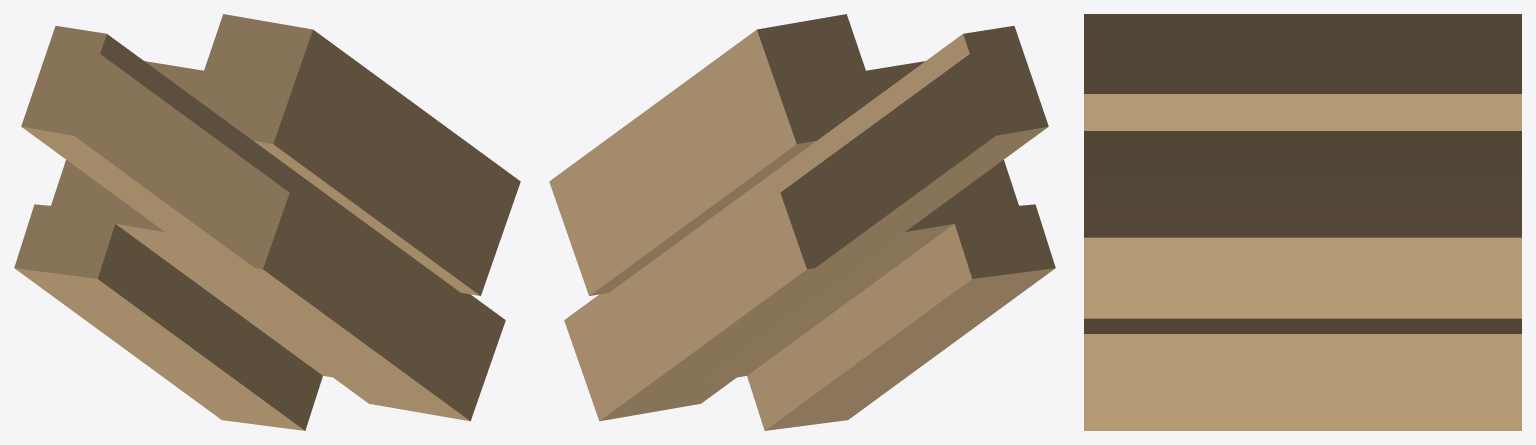
3 views of the same model, side by side, from view 1: azimuth 30°, elevation 25°; view 2: azimuth 150°, elevation 25°; view 3: azimuth 270°, elevation 25° (orthographic). The views are drawn at different scales.
Visible parts, largest first — view 1: 0_0_3_1_3_1_2_3_3; view 2: 0_0_3_1_3_1_2_3_3; view 3: 0_0_3_1_3_1_2_3_3.
Boxes of the visible parts, box(x1,y1,x2,y2) form: 0_0_3_1_3_1_2_3_3: box(14, 14, 520, 430); 0_0_3_1_3_1_2_3_3: box(549, 14, 1055, 430); 0_0_3_1_3_1_2_3_3: box(1084, 14, 1521, 430).
Bounding box in the file's own units: 19.95 × 18.76 × 24.
